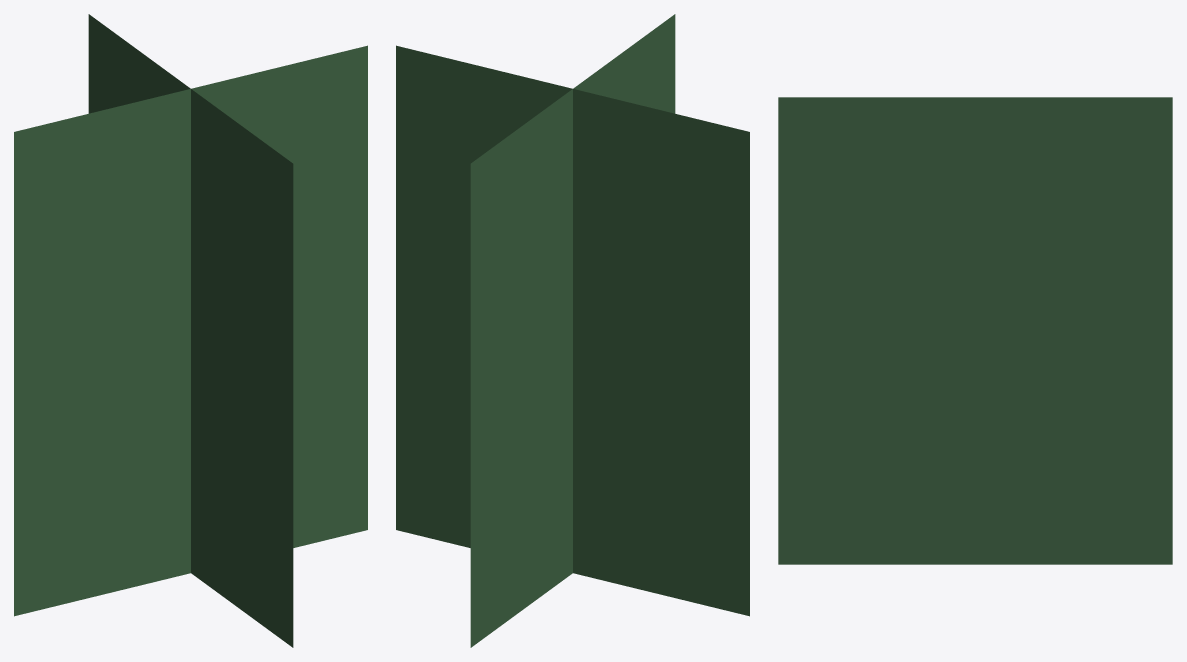
File: tree-retro-large.obj
3 renders of one model, left to right at view 1: azimuth 30°, elevation 25°; view 2: azimuth 150°, elevation 25°; view 3: azimuth 270°, elevation 25°, orthographic. The views are drawn at different scales.
Bounding box in the file's own units: 1.3 × 1.7 × 1.3.
